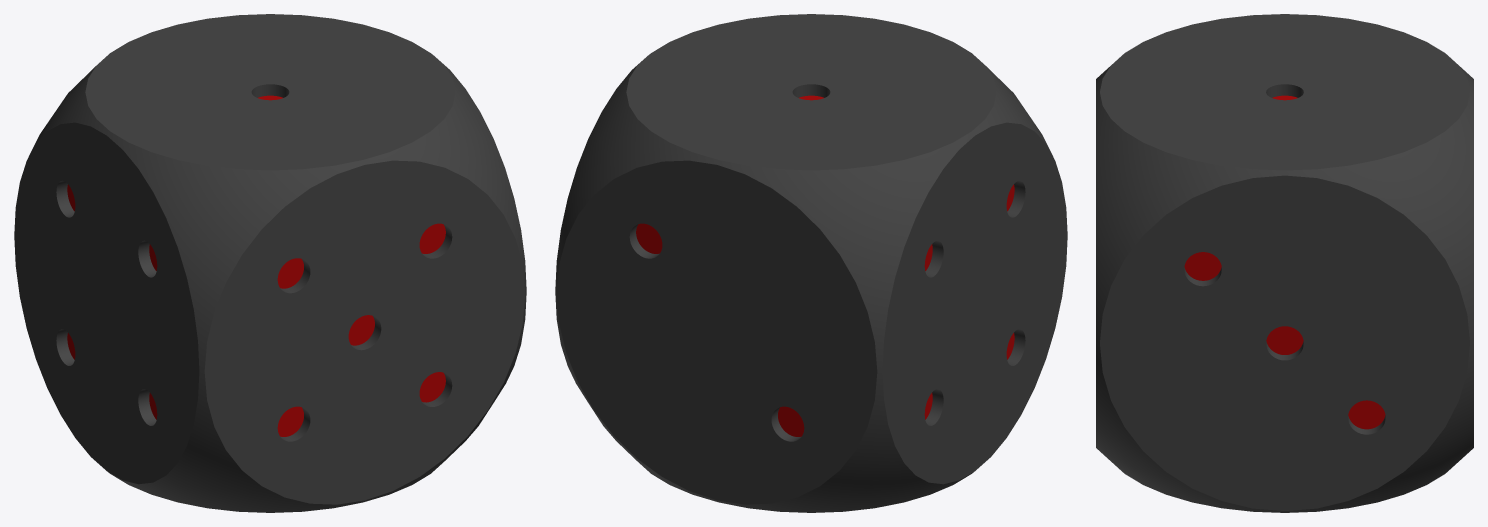
The model's file is DiceRoundColouredGray.gltf.
The picture shows the model from 3 angles, left to right: view 1: azimuth 30°, elevation 25°; view 2: azimuth 150°, elevation 25°; view 3: azimuth 270°, elevation 25°; orthographic projection.
Visible parts, largest first — view 1: Body001; view 2: Body001; view 3: Body001.
Boxes of the visible parts, x1=… form: Body001: x1=14, y1=14, x2=526, y2=512; Body001: x1=555, y1=14, x2=1067, y2=512; Body001: x1=1096, y1=14, x2=1473, y2=512.
Bounding box in the file's own units: 0.03 × 0.03 × 0.03.
